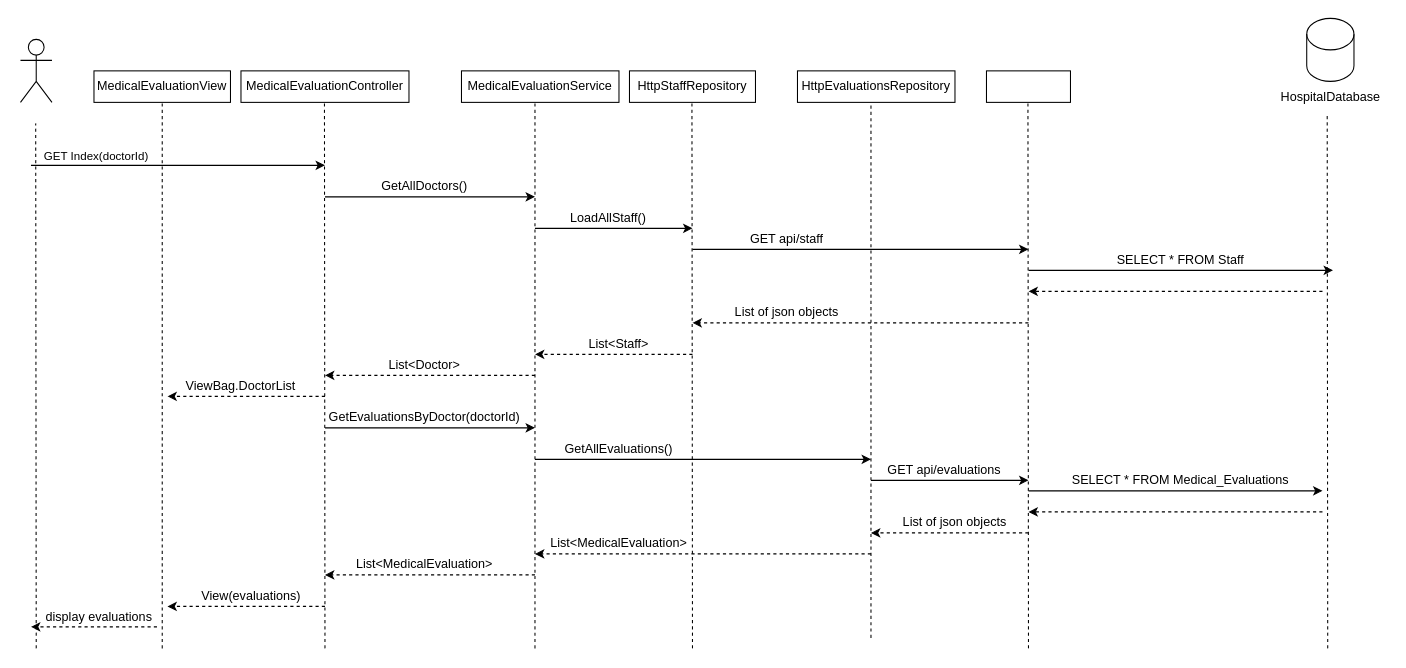
This 1406x668 diagram has some shape labels left out. The shapes that lost their labels are listed below. From the top down, each one's box as (x1, y1, x2, y2) in pixels, then its label:
(19, 38, 52, 102): Admin
(985, 70, 1070, 102): WebAPI
